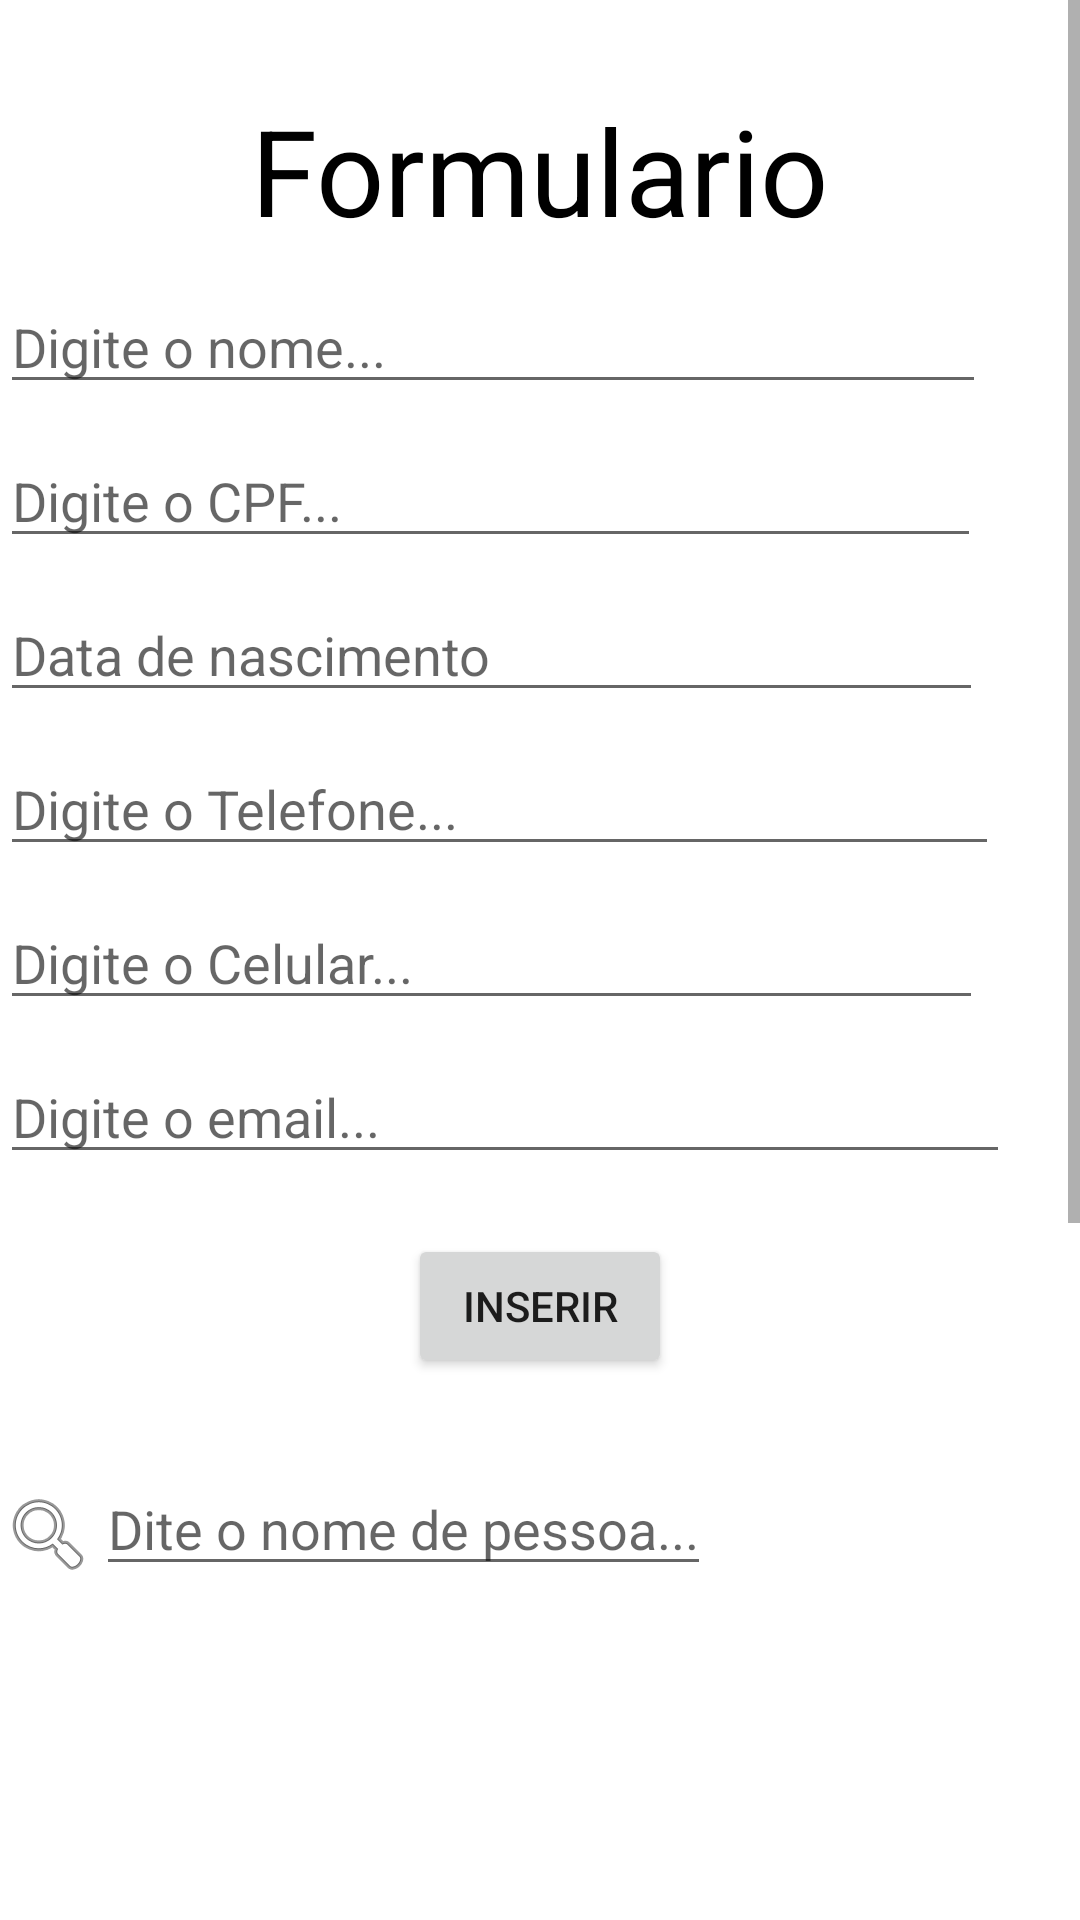

Screen size 1080 × 1920. Icon name, then its box in pixels as [left=x1, top=y1, right=x2, bottom=y2]:
search: [left=12, top=1499, right=84, bottom=1570]
